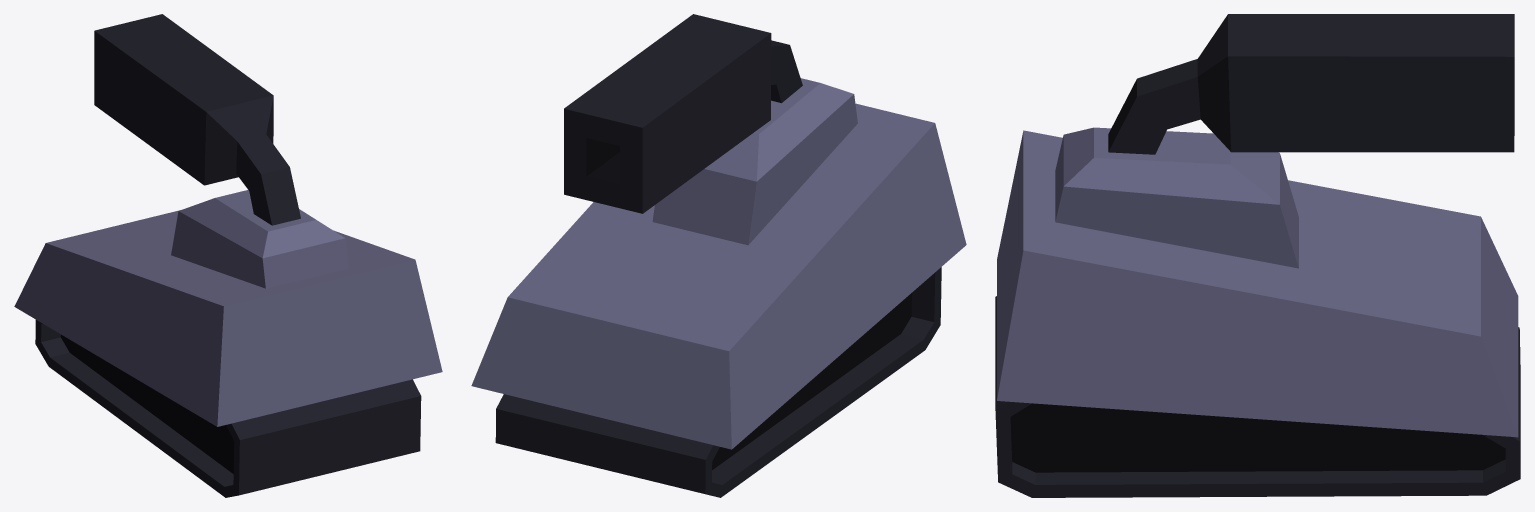
File: tank.FBX
The picture shows the model from 3 angles, left to right: view 1: azimuth 30°, elevation 25°; view 2: azimuth 150°, elevation 25°; view 3: azimuth 270°, elevation 25°; orthographic projection. The views are drawn at different scales.
Parts seen in each view (by area): view 1: Tank; view 2: Tank; view 3: Tank.
Part boxes in pixels (<box>): Tank: <box>14,14,442,497</box>; Tank: <box>471,14,966,497</box>; Tank: <box>995,14,1520,497</box>.
Size of the model in its own units: 50.64 by 67.93 by 79.6.
